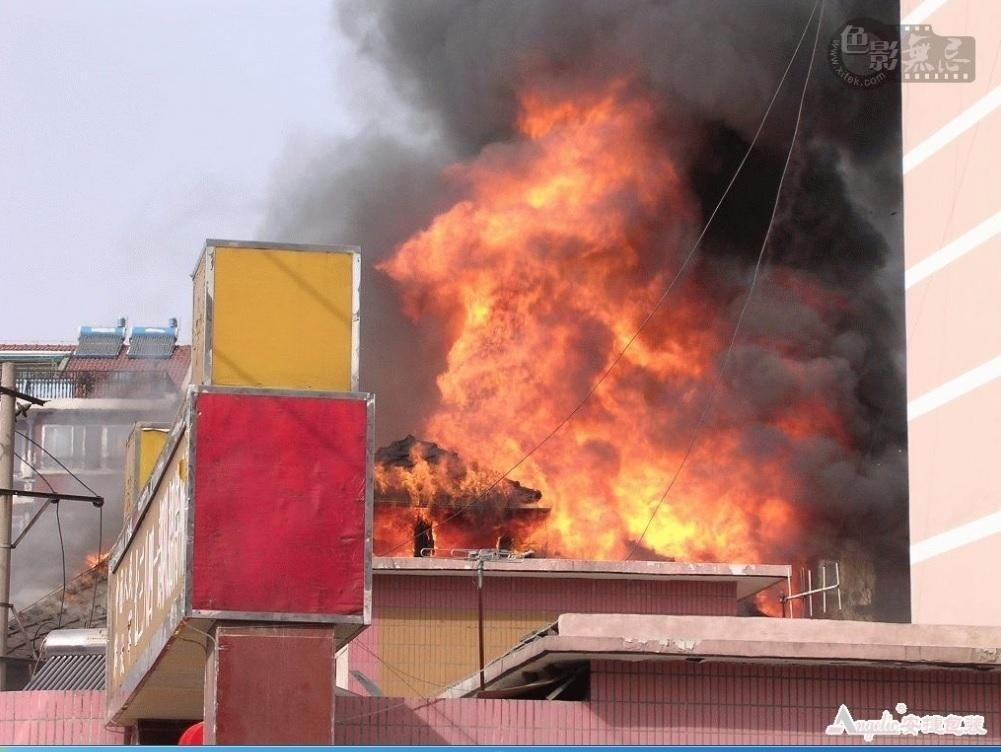fire: (357, 78, 869, 575)
